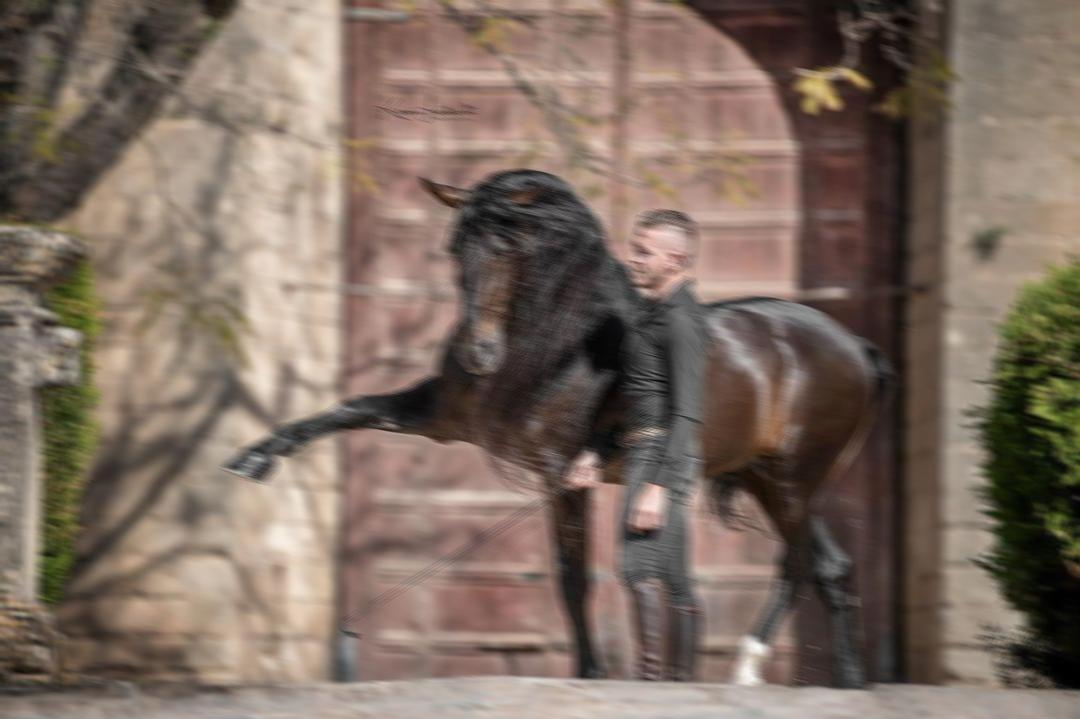horse: (220, 166, 896, 687)
